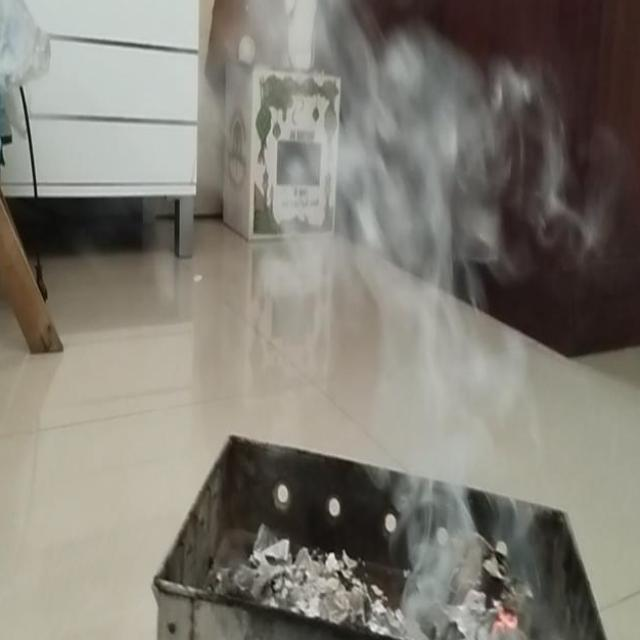fire: (179, 0, 532, 290), (360, 121, 535, 614)
